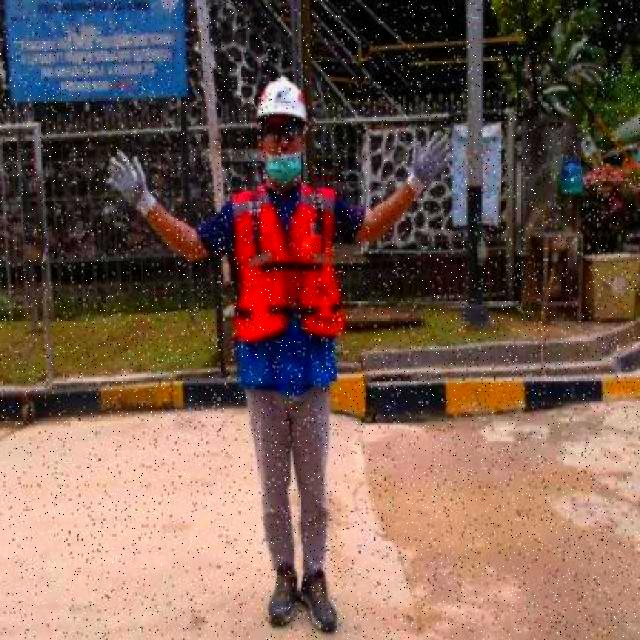Boots: (298, 565, 337, 633), (268, 566, 298, 628)
Gloves: (101, 147, 161, 215), (408, 132, 456, 192)
Helmet: (252, 72, 312, 128)
Mask: (233, 230, 344, 338)
